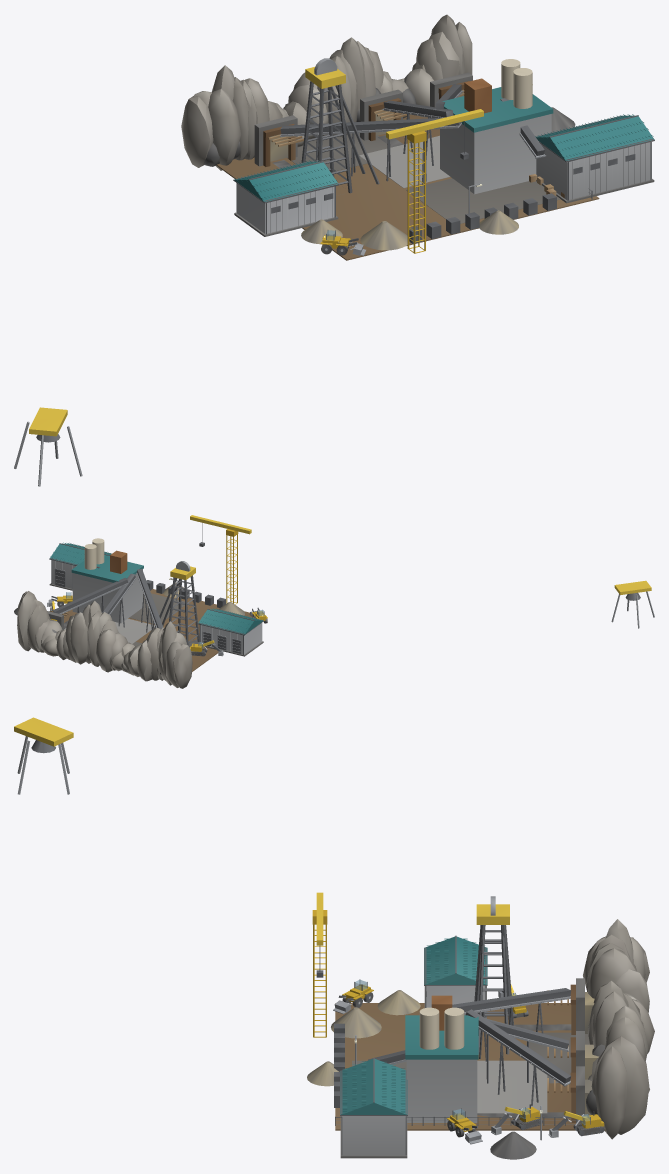
Rendered from Mine_P3.fbx.
3 views of the same model, one above another, from view 1: azimuth 30°, elevation 25°; view 2: azimuth 150°, elevation 25°; view 3: azimuth 270°, elevation 25° (orthographic). The views are drawn at different scales.
Parts seen in each view (by area): view 1: Mine.Cliff, Mine.Apron, Mine.Plant, Mine.Crusher, Mine.Winder, Mine.Headframe, Mine.Crane, Mine.Conv0, Mine.Clutter, Mine.Adit0, Mine.LoadGantry, Mine.Adit1 (+5 smaller); view 2: Mine.Cliff, Mine.Plant, Mine.Apron, Mine.Winder, Mine.Headframe, Mine.Crusher, Mine.Crane, Mine.LoadGantry, Mine.Conv2, Mine.Conv0, Mine.Clutter, Mine.Conv1 (+1 smaller); view 3: Mine.Cliff, Mine.Apron, Mine.Plant, Mine.Crusher, Mine.Winder, Mine.Headframe, Mine.Conv2, Mine.LoadGantry, Mine.Conv0, Mine.Crane, Mine.Conv1, Mine.Adit0 (+10 smaller).
Part boxes in pixels (bbox=[...]): Mine.Cliff: bbox=[181, 14, 472, 170]; Mine.Apron: bbox=[216, 114, 599, 260]; Mine.Plant: bbox=[440, 59, 553, 194]; Mine.Crusher: bbox=[535, 114, 654, 203]; Mine.Winder: bbox=[233, 160, 338, 236]; Mine.Headframe: bbox=[301, 58, 379, 193]; Mine.Crane: bbox=[386, 109, 483, 253]; Mine.Conv0: bbox=[280, 117, 461, 184]; Mine.Clutter: bbox=[409, 174, 564, 243]; Mine.Adit0: bbox=[254, 115, 303, 166]; Mine.LoadGantry: bbox=[14, 407, 82, 486]; Mine.Adit1: bbox=[360, 89, 410, 140]; Mine.Cliff: bbox=[17, 591, 192, 688]; Mine.Plant: bbox=[71, 538, 143, 623]; Mine.Apron: bbox=[64, 589, 252, 671]; Mine.Winder: bbox=[198, 608, 263, 656]; Mine.Headframe: bbox=[154, 561, 199, 645]; Mine.Crusher: bbox=[49, 542, 111, 590]; Mine.Crane: bbox=[190, 515, 251, 604]; Mine.LoadGantry: bbox=[611, 580, 654, 628]; Mine.Conv2: bbox=[53, 577, 128, 614]; Mine.Conv0: bbox=[136, 569, 162, 632]; Mine.Clutter: bbox=[146, 580, 225, 607]; Mine.Conv1: bbox=[102, 573, 136, 627]; Mine.Cliff: bbox=[583, 919, 654, 1139]; Mine.Apron: bbox=[335, 1003, 605, 1130]; Mine.Plant: bbox=[405, 995, 478, 1122]; Mine.Crusher: bbox=[340, 1058, 407, 1158]; Mine.Winder: bbox=[424, 935, 487, 1018]; Mine.Headframe: bbox=[474, 896, 513, 1054]; Mine.Conv2: bbox=[465, 1009, 571, 1105]; Mine.LoadGantry: bbox=[14, 717, 73, 794]; Mine.Conv0: bbox=[452, 988, 571, 1061]; Mine.Crane: bbox=[312, 892, 327, 1037]; Mine.Conv1: bbox=[464, 1013, 568, 1083]; Mine.Adit0: bbox=[547, 978, 594, 1034].
Size of the model in its own units: 22145 by 3911 by 15425.
